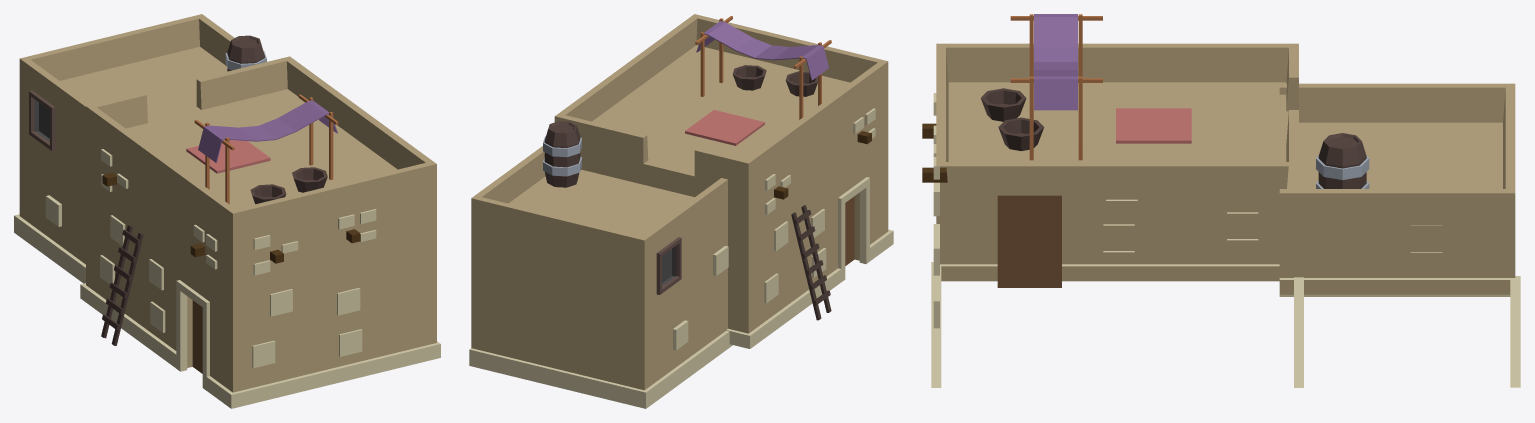
File: fangzi03.FBX
3 views of the same model, side by side, from view 1: azimuth 30°, elevation 25°; view 2: azimuth 150°, elevation 25°; view 3: azimuth 270°, elevation 25° (orthographic). The views are drawn at different scales.
Parts seen in each view (by area): view 1: fangzi03; view 2: fangzi03; view 3: fangzi03.
Boxes of the visible parts, box(x1,y1,x2,y2) form: fangzi03: box(14, 14, 440, 408); fangzi03: box(469, 14, 893, 408); fangzi03: box(922, 14, 1520, 387).
Bounding box in the file's own units: 937 × 898 × 1672.
